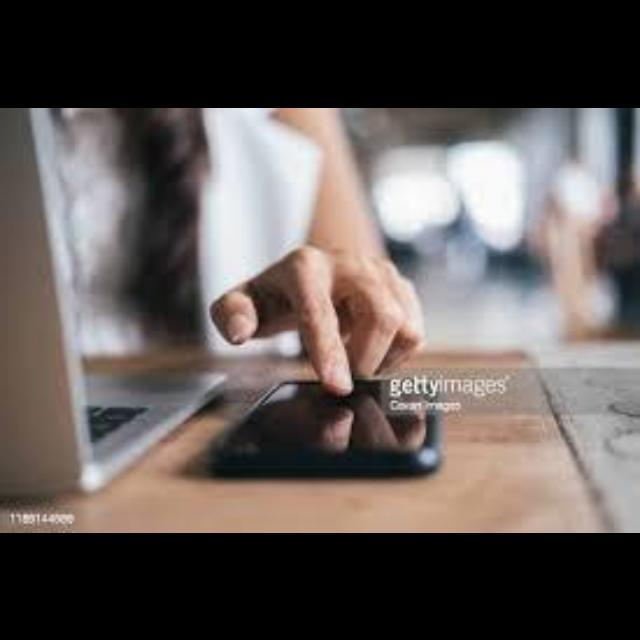Phone: (206, 351, 474, 483)
